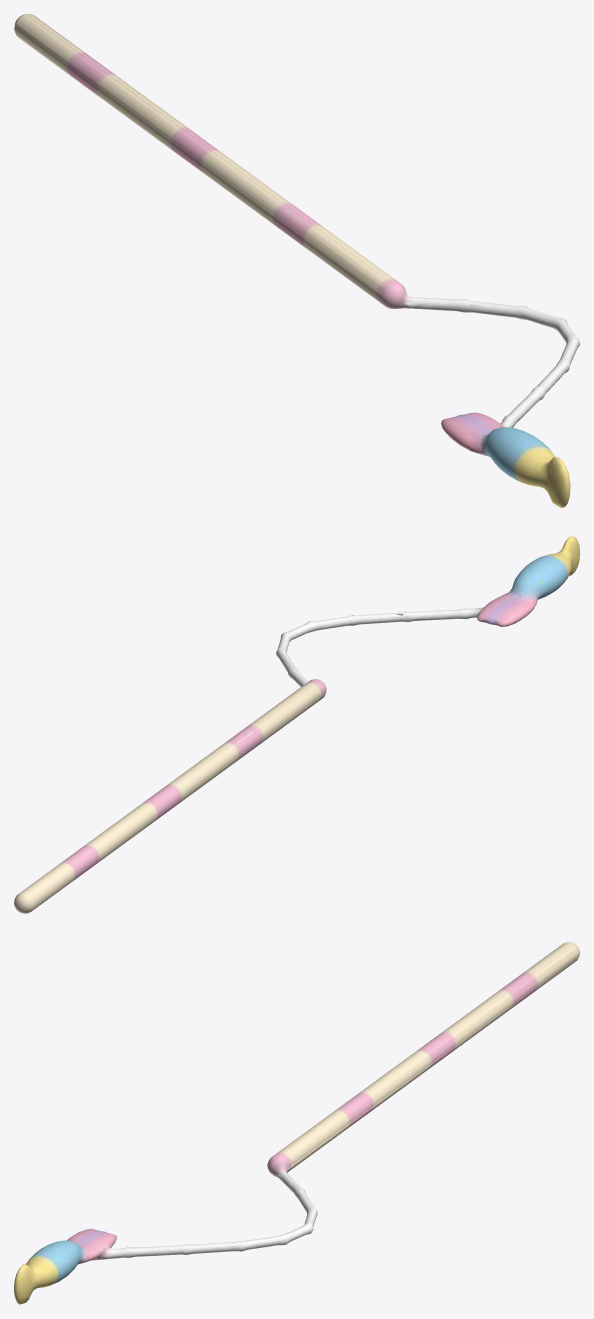
Rendered from wand_toy.fbx.
3 renders of one model, top to bottom at view 1: azimuth 30°, elevation 25°; view 2: azimuth 150°, elevation 25°; view 3: azimuth 330°, elevation 25°, orthographic. The views are drawn at different scales.
Parts seen in each view (by area): view 1: wand_toy.001; view 2: wand_toy.001; view 3: wand_toy.001.
Part boxes in pixels (x1,y1,x2,y2): wand_toy.001: (14, 14, 579, 507); wand_toy.001: (14, 536, 579, 913); wand_toy.001: (14, 942, 579, 1304).
Size of the model in its own units: 0.1964 by 0.0414 by 1.01.
1 material, 1 textured.
